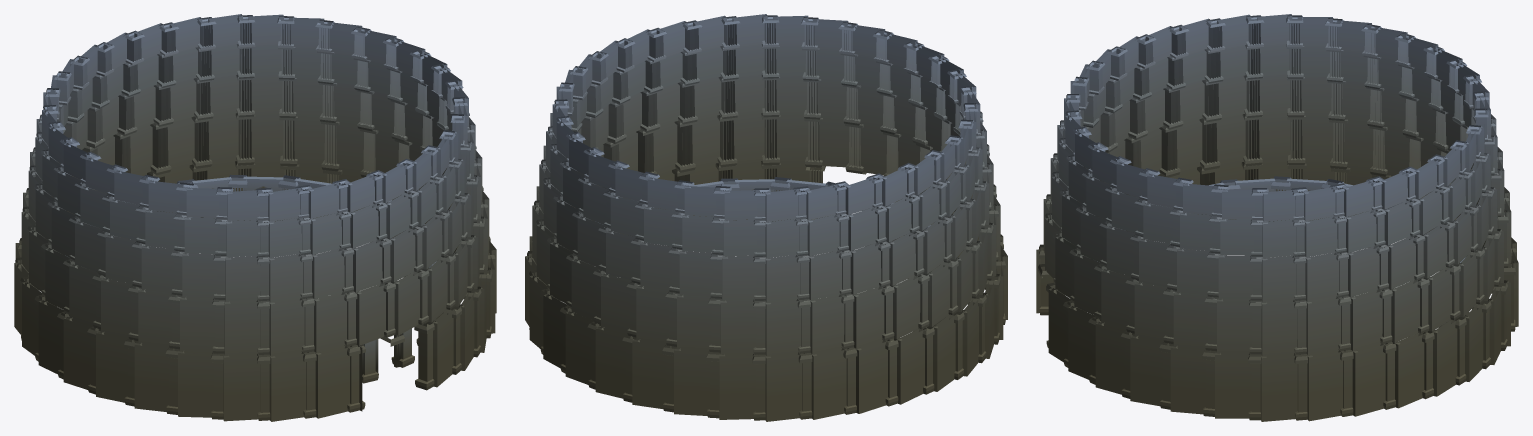
The model's file is WRLD_ARENAfbx 2.fbx.
3 views of the same model, side by side, from view 1: azimuth 30°, elevation 25°; view 2: azimuth 150°, elevation 25°; view 3: azimuth 270°, elevation 25° (orthographic).
Parts seen in each view (by area): view 1: Cube.025, Cube.024; view 2: Cube.025, Cube.024; view 3: Cube.025, Cube.024.
Part boxes in pixels (<box>): Cube.025: <box>14,14,496,421</box>; Cube.024: <box>65,174,441,383</box>; Cube.025: <box>525,14,1007,421</box>; Cube.024: <box>595,177,944,325</box>; Cube.025: <box>1036,14,1518,421</box>; Cube.024: <box>1097,176,1469,327</box>.
Bounding box in the file's own units: 2059 × 1016 × 2059.
